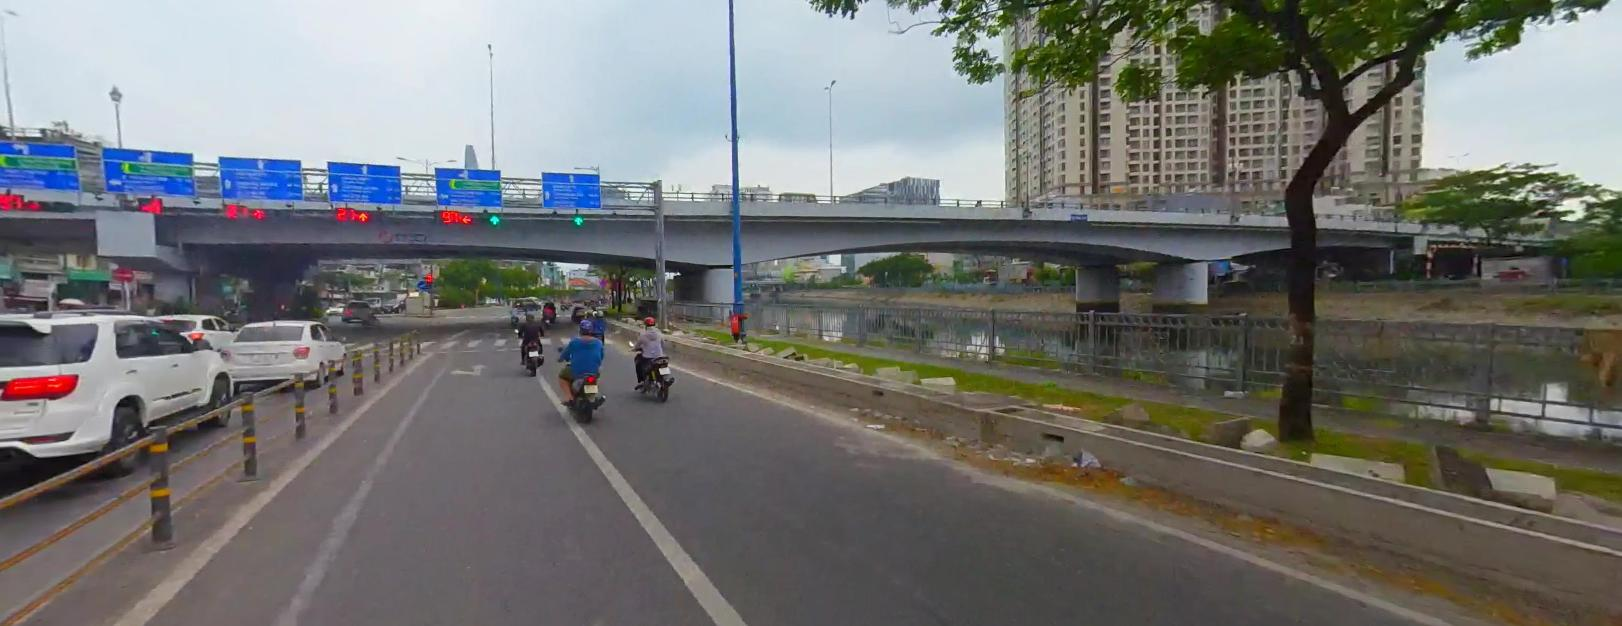Cam con lai: (380, 228, 393, 240)
Cam dung va do: (598, 277, 607, 285)
Cam nguoc chieu: (103, 264, 136, 281)
Hieu lenh: (418, 279, 427, 287)
